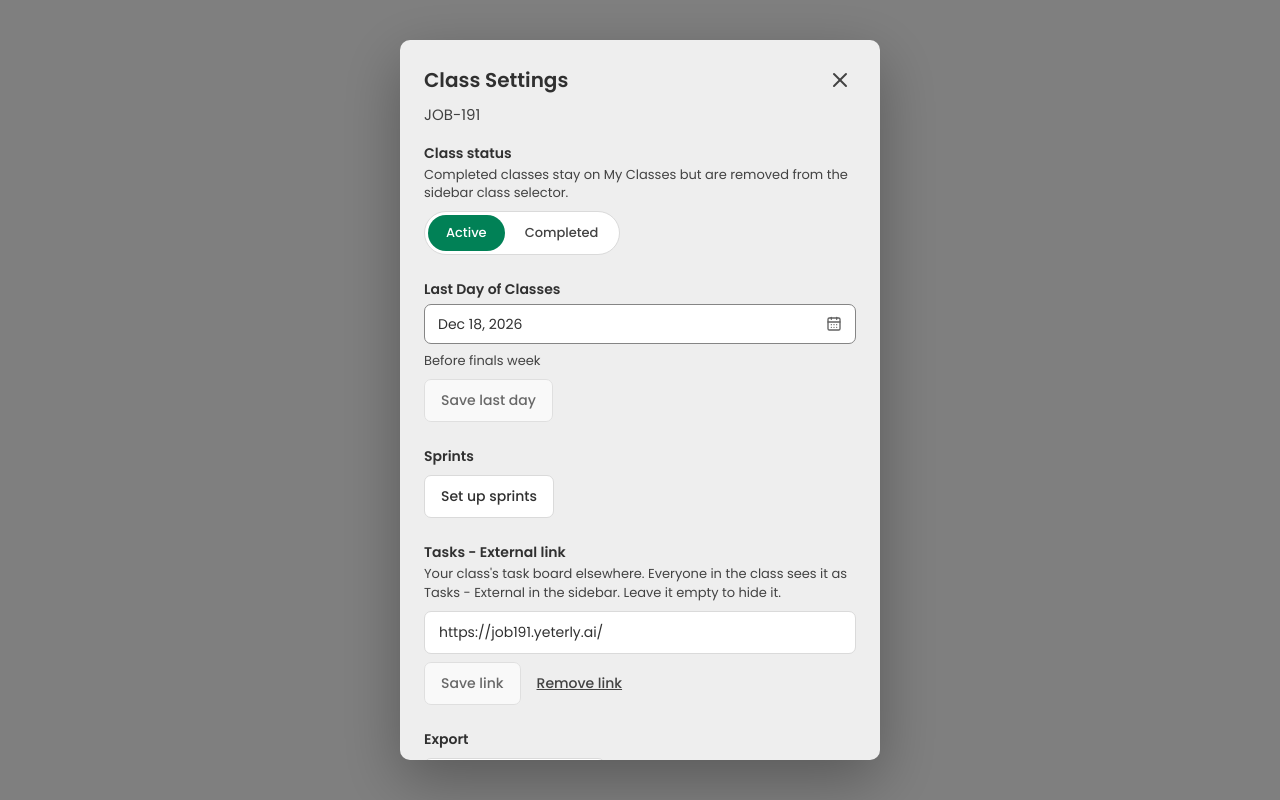
Test: ClassSettingsModal — Tasks - External link › saves a changed link, less surrounding spaces, and says so
The width and height of the screenshot is (1280, 800).
Replace the text in the field labelled "Tasks - External link" with "  https://tasks.grepthink2.com/cse115a " at {"x": 640, "y": 632}, box [424,611,856,654]
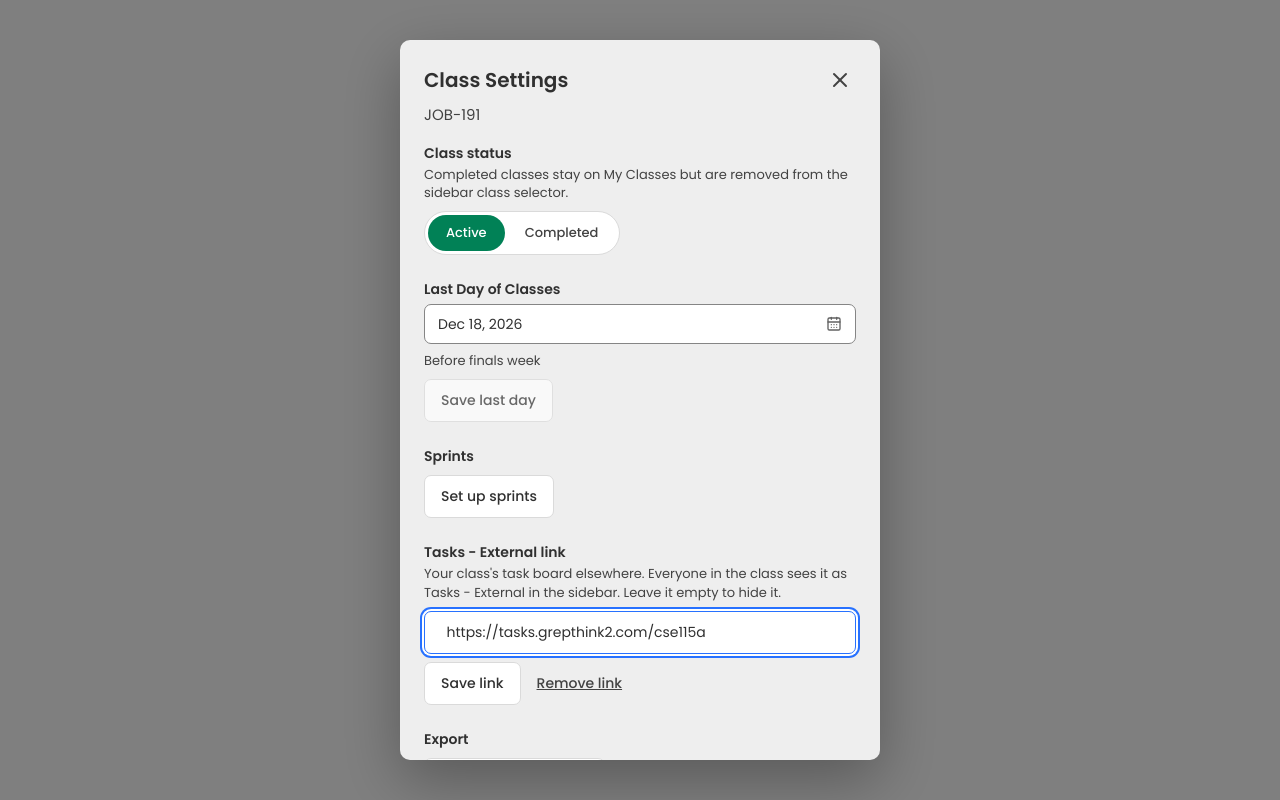
Click the button "Save link".
click(472, 683)  # box [424,662,520,705]
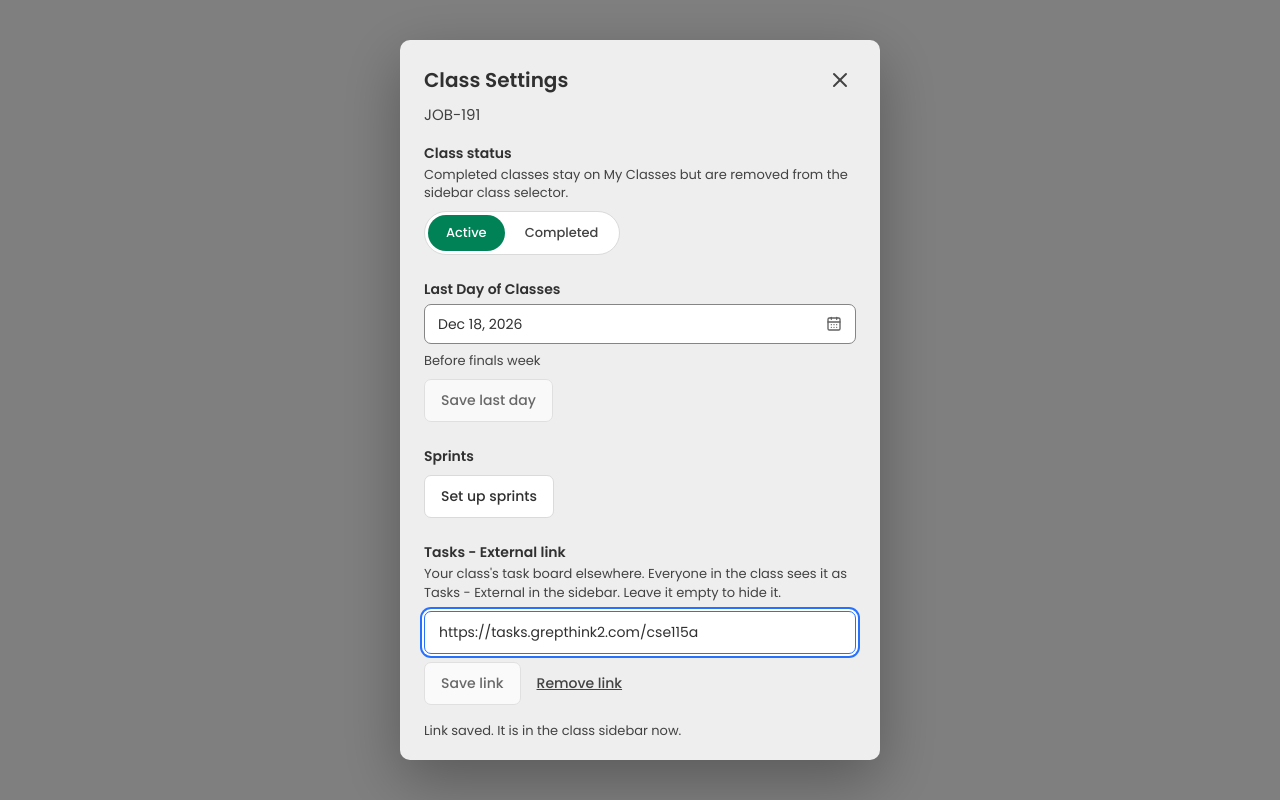
Expected: the message shows "saved", [424,721,681,740]
